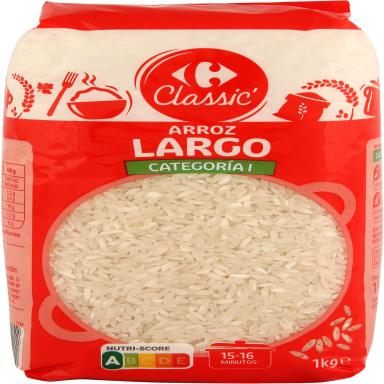rice package: (2, 1, 382, 382)
